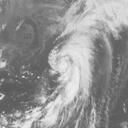cyclone: (47, 36, 94, 79)
